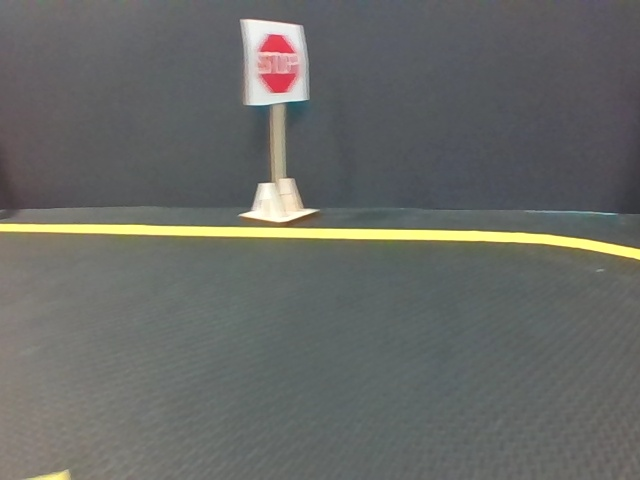stop: (243, 19, 309, 104)
